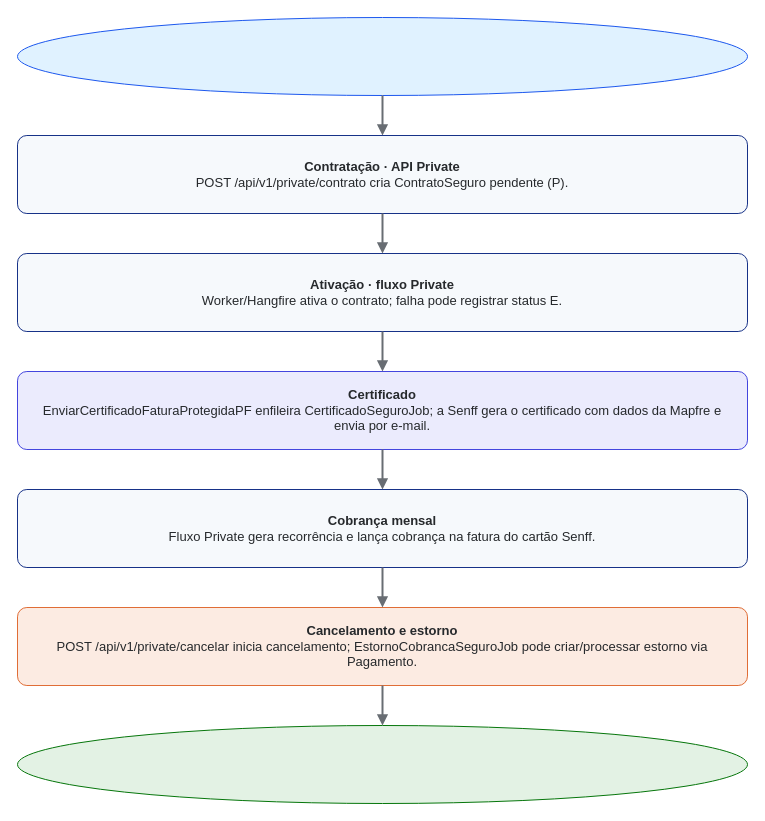
Some shapes in this 765 by 821 pixel diagram are drawn without their labels. Here are the shapes that lost their labels. From the top down, the centre of each, then its label:
(x=382, y=56): Início Cliente adere ao produto pelo canal Senff.
(x=382, y=764): Fim Contrato A enquanto ativo; C ao cancelar.
